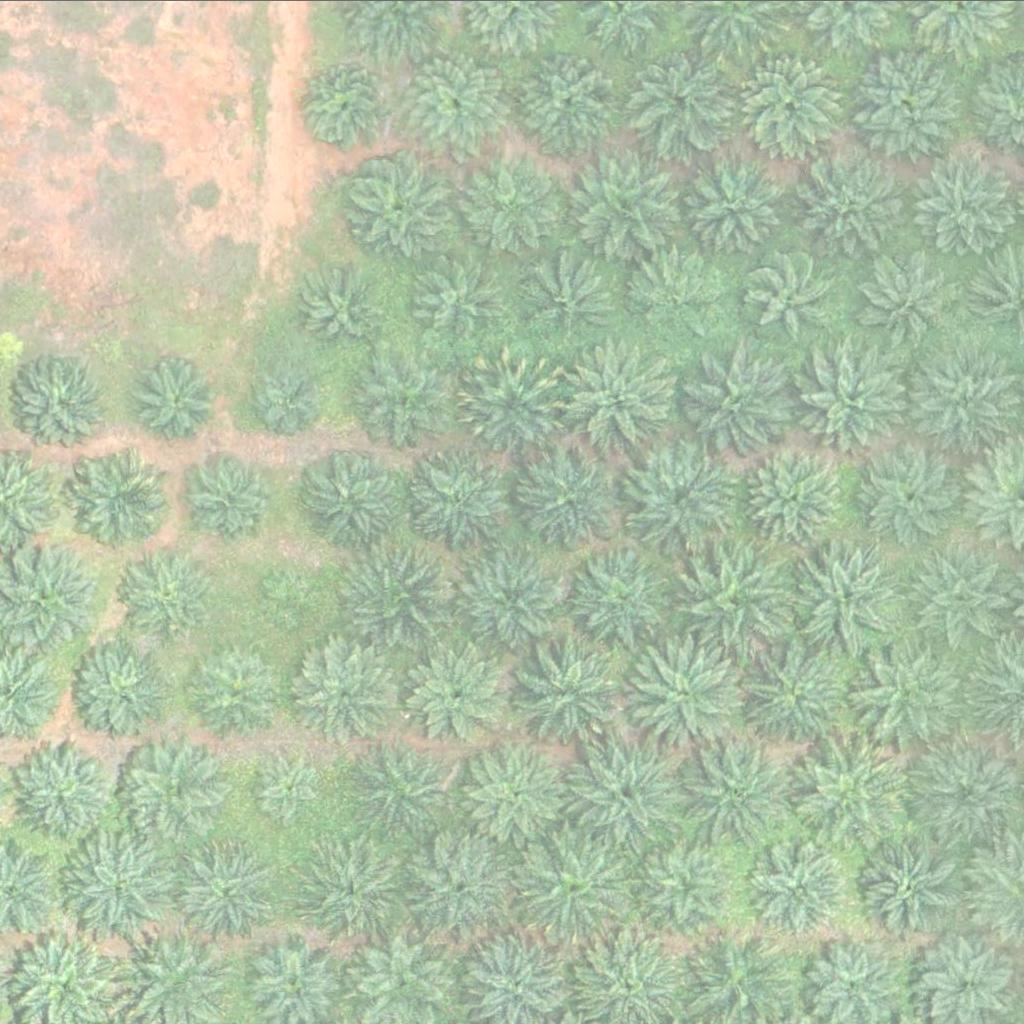Kelapa_Sawit: (677, 733, 791, 846), (853, 635, 967, 748), (401, 44, 515, 157), (513, 40, 627, 153), (908, 542, 1022, 655), (457, 346, 570, 459), (298, 443, 411, 556), (66, 827, 179, 940), (510, 829, 623, 942), (570, 732, 683, 845), (631, 638, 744, 751), (740, 636, 853, 749), (561, 342, 674, 455), (678, 347, 791, 460), (800, 343, 913, 456), (908, 145, 1021, 258), (802, 733, 916, 845), (406, 443, 519, 555), (335, 542, 448, 654), (457, 544, 570, 656), (407, 832, 520, 944), (511, 636, 624, 748), (564, 546, 677, 658), (680, 547, 793, 659), (794, 539, 907, 651), (627, 444, 740, 556), (851, 440, 964, 552), (908, 341, 1021, 453), (571, 143, 684, 255), (679, 145, 792, 257), (628, 41, 741, 153), (852, 42, 965, 154), (354, 351, 455, 451), (117, 540, 218, 640), (66, 642, 167, 742), (185, 638, 286, 738), (293, 646, 394, 746), (404, 646, 505, 746), (11, 742, 112, 842), (123, 741, 224, 841), (349, 739, 450, 839), (465, 741, 566, 841), (172, 841, 273, 941), (305, 844, 406, 944), (863, 832, 964, 932), (519, 450, 620, 550), (742, 447, 843, 547), (803, 149, 904, 249), (739, 51, 840, 151), (12, 351, 112, 451), (72, 450, 172, 550), (750, 837, 850, 937), (353, 158, 453, 258), (463, 145, 563, 245), (136, 358, 224, 446), (298, 263, 386, 351), (647, 843, 735, 931), (528, 252, 616, 340), (418, 248, 506, 335), (188, 457, 276, 544), (632, 249, 720, 336), (746, 254, 834, 341), (862, 253, 950, 340), (301, 63, 389, 150), (255, 753, 330, 828), (256, 370, 319, 433), (259, 569, 322, 631)
